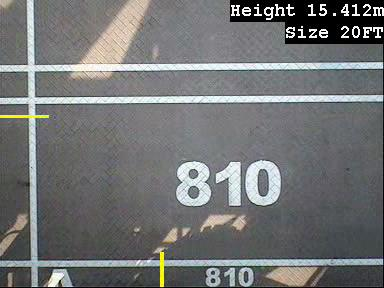groundmarker_2: (109, 161, 156, 192), (109, 1, 156, 31)
